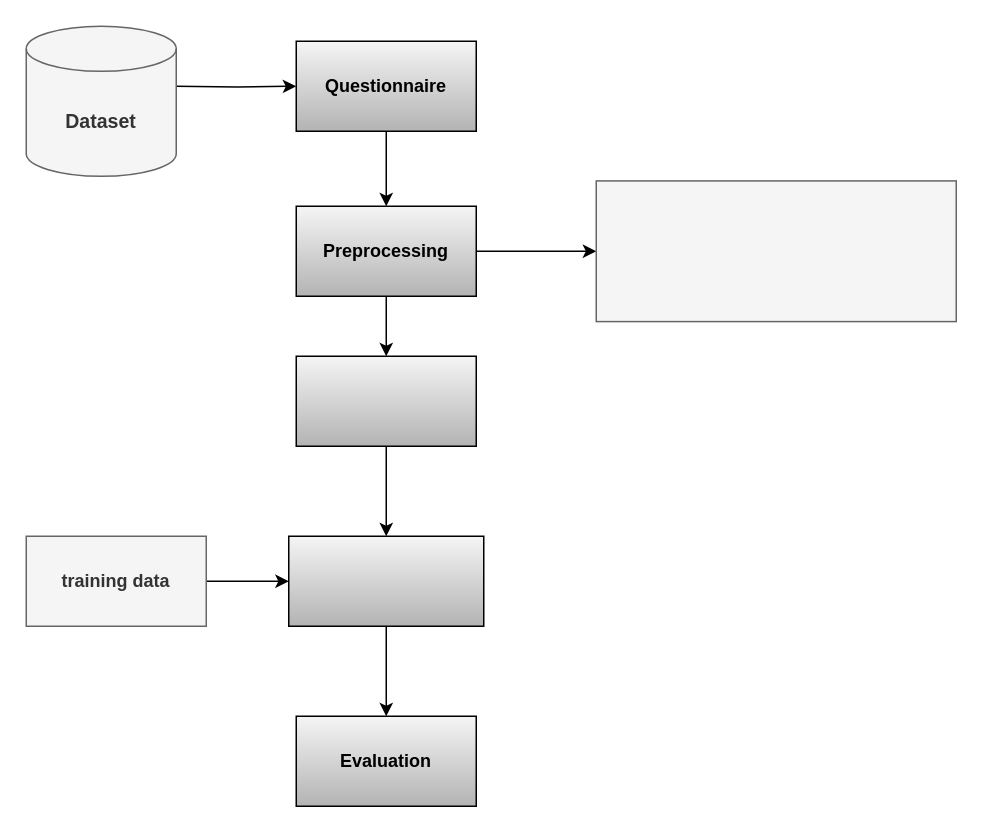
This 983x833 diagram has some shape labels left out. Here are the shapes that lost their labels. From the top down, the box of each, then its label:
(595, 179, 956, 322): Data cleaning. Data transformation.
(295, 355, 476, 446): Feature Extraction
(287, 535, 484, 626): machine learning (logistic regression)
